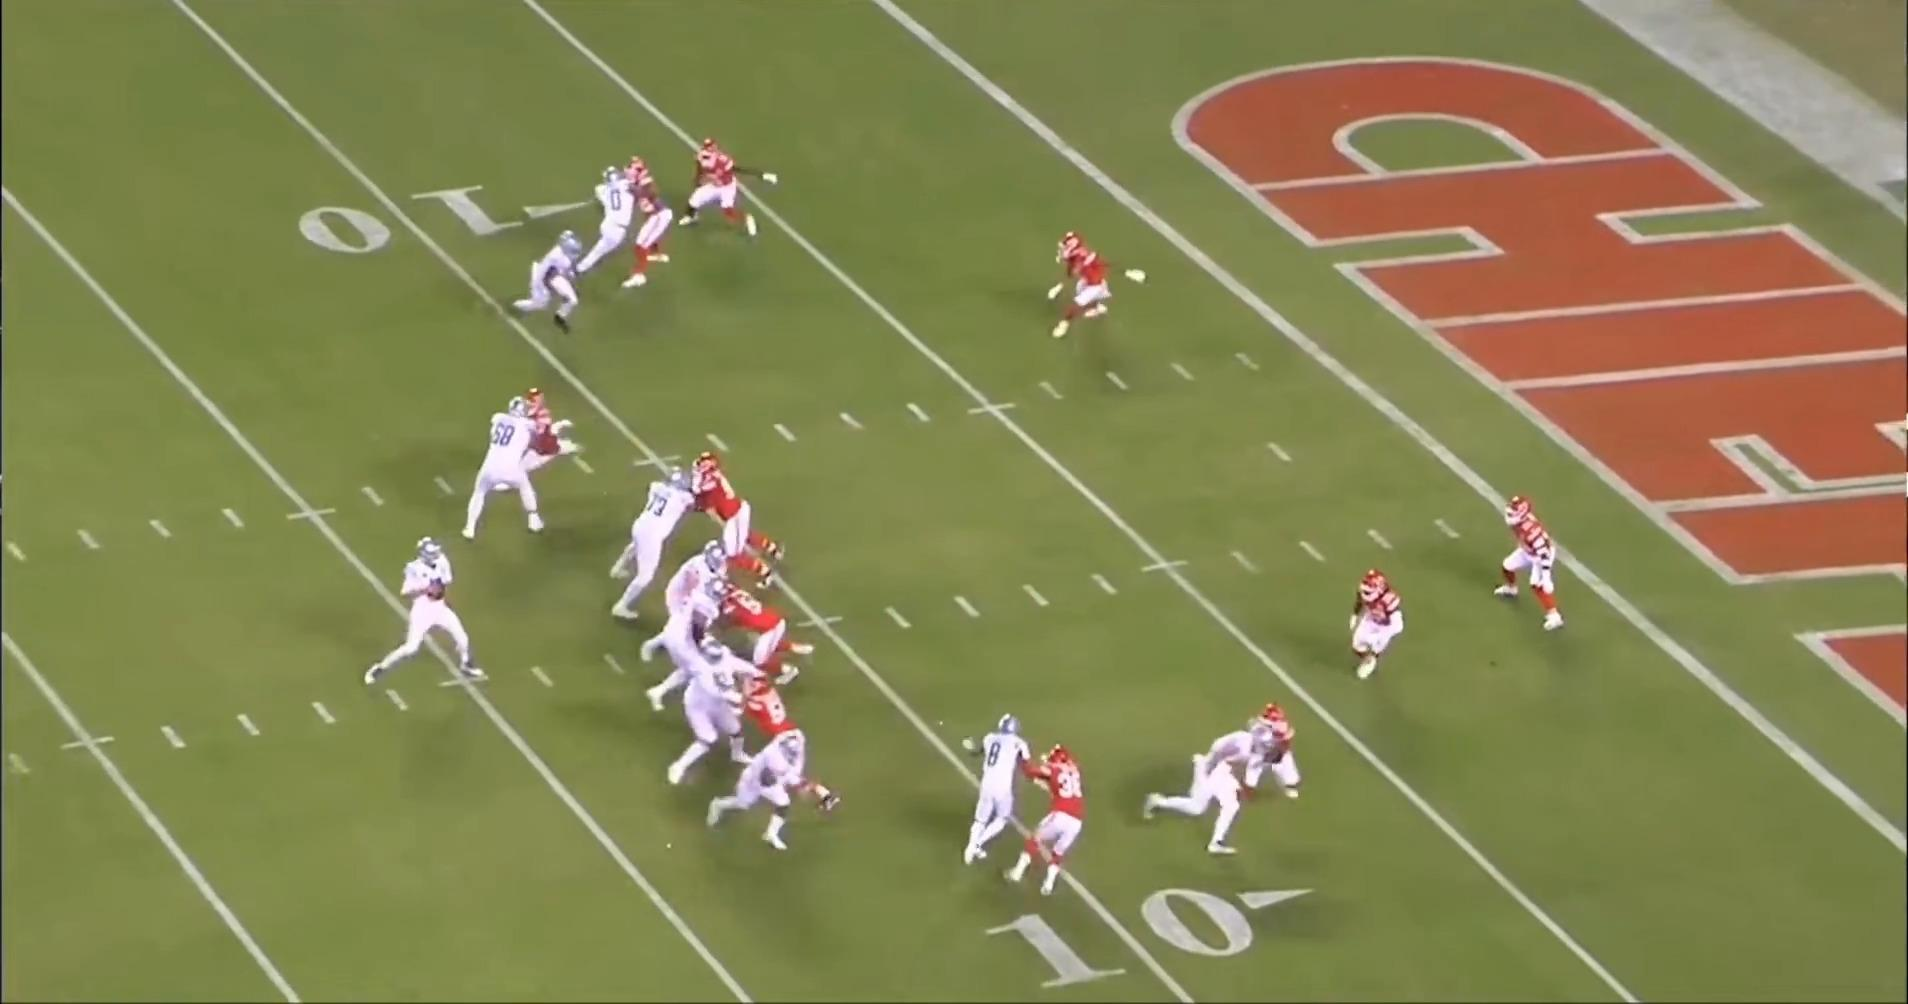player: (356, 539, 485, 691), (1139, 717, 1266, 864), (705, 734, 838, 853), (734, 674, 845, 815), (660, 645, 765, 789), (602, 463, 695, 622), (953, 711, 1041, 877), (1012, 743, 1097, 904), (464, 397, 549, 546), (560, 158, 649, 295), (641, 578, 720, 713), (646, 538, 734, 657), (1491, 496, 1564, 635), (697, 453, 786, 565), (683, 137, 765, 241), (1047, 231, 1121, 346), (503, 225, 582, 330), (614, 155, 674, 293), (1345, 567, 1409, 683), (725, 584, 796, 688), (1246, 703, 1306, 811), (518, 388, 573, 477)
